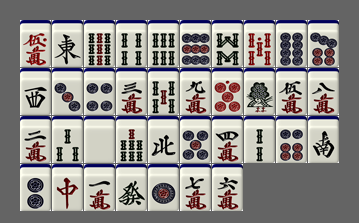0m: (20, 20, 51, 67)
0p: (212, 68, 243, 115)
0s: (244, 20, 275, 67)
1m: (84, 164, 115, 211)
1p: (148, 164, 179, 211)
1s: (244, 68, 275, 115)
1z: (52, 20, 83, 67)
2m: (20, 116, 51, 163)
2p: (20, 164, 51, 211)
2s: (244, 116, 275, 163)
2z: (308, 116, 339, 163)
3m: (116, 68, 147, 115)
3p: (52, 68, 83, 115)
3s: (52, 116, 83, 163)
3z: (20, 68, 51, 115)
4m: (212, 116, 243, 163)
4p: (84, 68, 115, 115)
4s: (116, 20, 147, 67)
4z: (148, 116, 179, 163)
5m: (276, 68, 307, 115)
5p: (180, 116, 211, 163)
5s: (148, 68, 179, 115)
5z: (84, 116, 115, 163)
6m: (212, 164, 243, 211)
6p: (276, 116, 307, 163)
6s: (148, 20, 179, 67)
6z: (116, 164, 147, 211)
7m: (180, 164, 211, 211)
7p: (308, 20, 339, 67)
7s: (116, 116, 147, 163)
7z: (52, 164, 83, 211)
8m: (308, 68, 339, 115)
8p: (276, 20, 307, 67)
8s: (212, 20, 243, 67)
9m: (180, 68, 211, 115)
9p: (180, 20, 211, 67)
9s: (84, 20, 115, 67)
